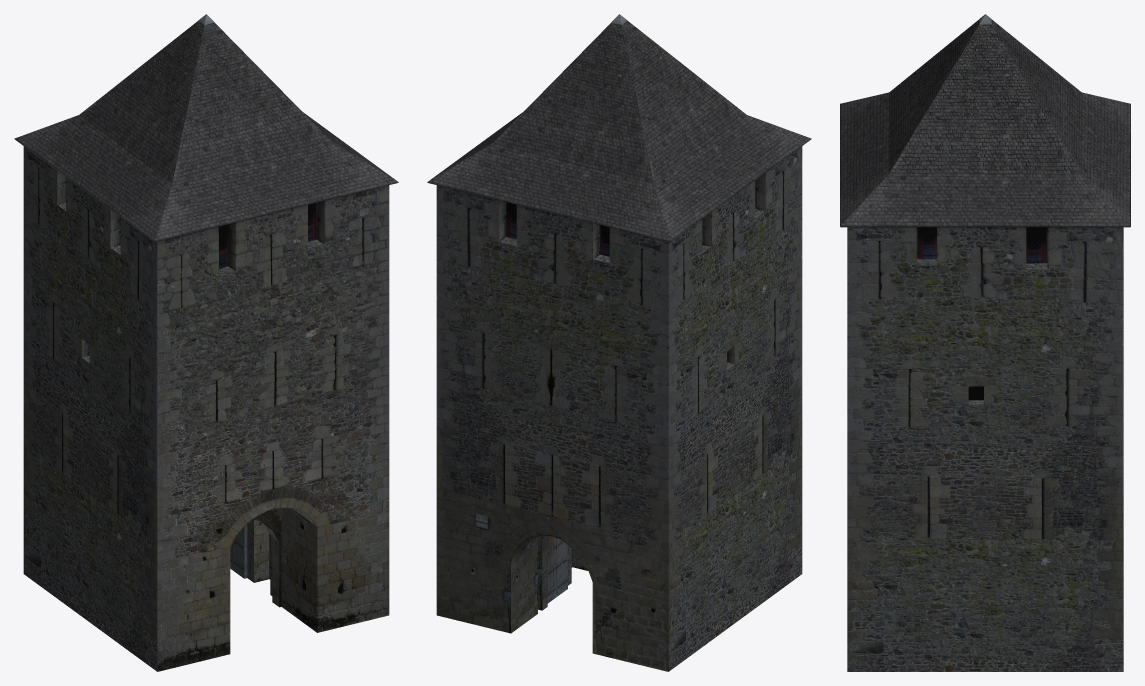
The model's file is fougeres gate.obj.
The picture shows the model from 3 angles, left to right: view 1: azimuth 30°, elevation 25°; view 2: azimuth 150°, elevation 25°; view 3: azimuth 270°, elevation 25°; orthographic projection. The views are drawn at different scales.
Parts seen in each view (by area): view 1: gate; view 2: gate; view 3: gate.
Part boxes in pixels (bbox=[...]): gate: bbox=[14, 14, 398, 671]; gate: bbox=[427, 14, 811, 671]; gate: bbox=[840, 14, 1130, 671].
Bounding box in the file's own units: 7.88 × 17.94 × 7.88.
